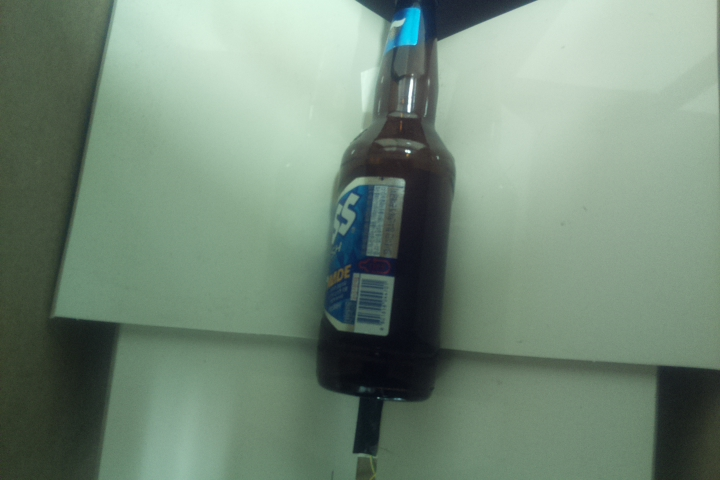makju: (314, 1, 461, 406)
